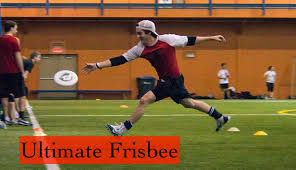disc: (53, 70, 78, 87)
